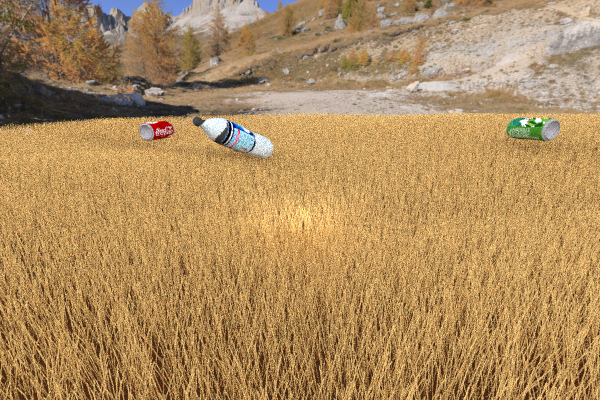Plastic Bottle: (192, 116, 273, 159), (505, 117, 560, 141), (138, 120, 174, 141)
